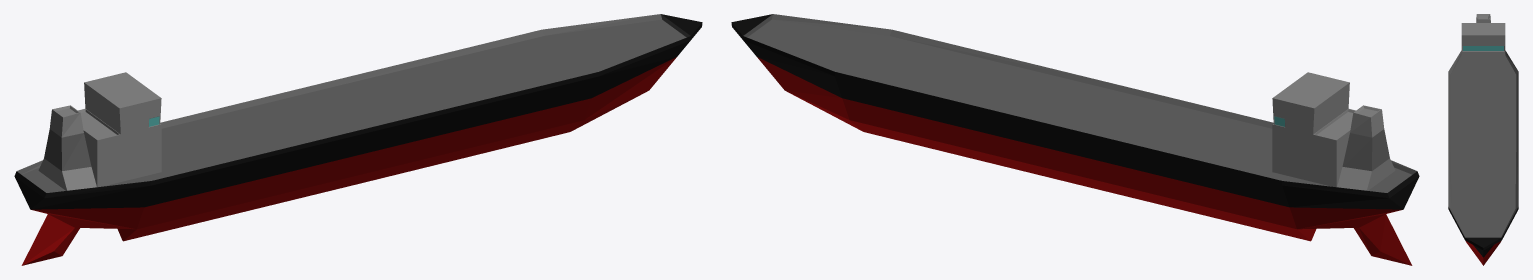
File: Boat 1.fbx
3 renders of one model, left to right at view 1: azimuth 30°, elevation 25°; view 2: azimuth 150°, elevation 25°; view 3: azimuth 270°, elevation 25°, orthographic. The views are drawn at different scales.
Parts seen in each view (by area): view 1: pCube10; view 2: pCube10; view 3: pCube10.
Boxes of the visible parts, x1,y1,x2,y2 form: pCube10: (14,14,702,265); pCube10: (731,14,1419,265); pCube10: (1448,14,1518,265).
Bounding box in the file's own units: 13.08 × 2.77 × 1.91.
